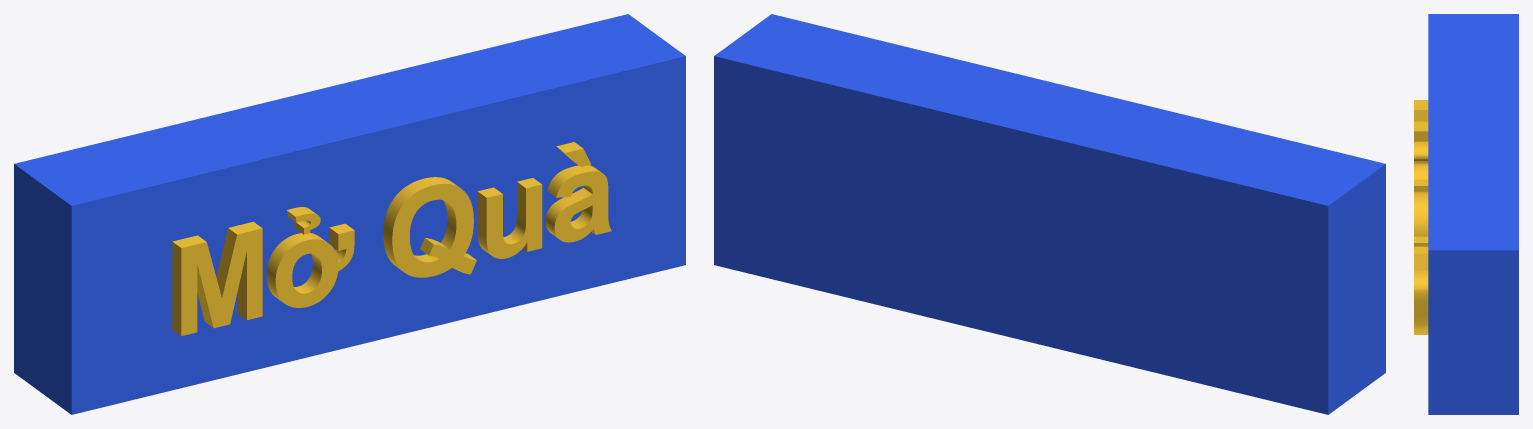
3 renders of one model, left to right at view 1: azimuth 30°, elevation 25°; view 2: azimuth 150°, elevation 25°; view 3: azimuth 270°, elevation 25°, orthographic. The views are drawn at different scales.
Parts seen in each view (by area): view 1: Cube, Text.007; view 2: Cube; view 3: Cube, Text.007.
Boxes of the visible parts, bbox=[...] form: Cube: bbox=[14, 14, 685, 414]; Text.007: bbox=[172, 142, 611, 335]; Cube: bbox=[714, 14, 1385, 414]; Cube: bbox=[1428, 14, 1518, 414]; Text.007: bbox=[1414, 100, 1428, 334].
Bounding box in the file's own units: 2.04 × 0.6639 × 0.3835.
